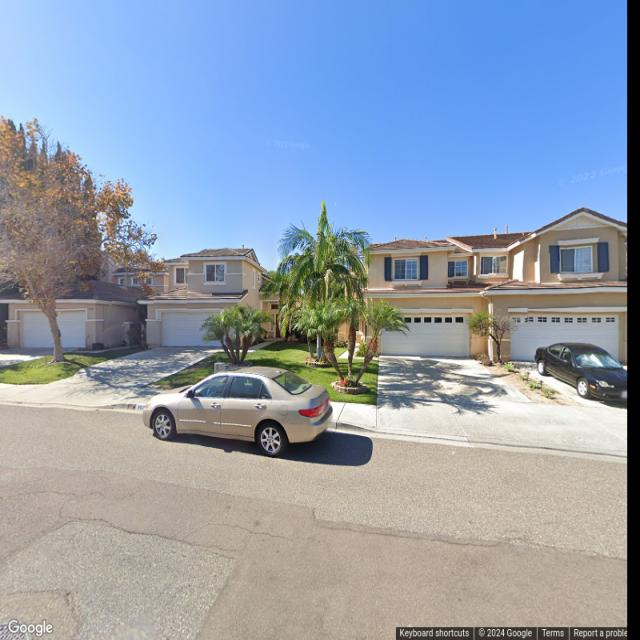House: (338, 207, 628, 361), (0, 244, 306, 350)
